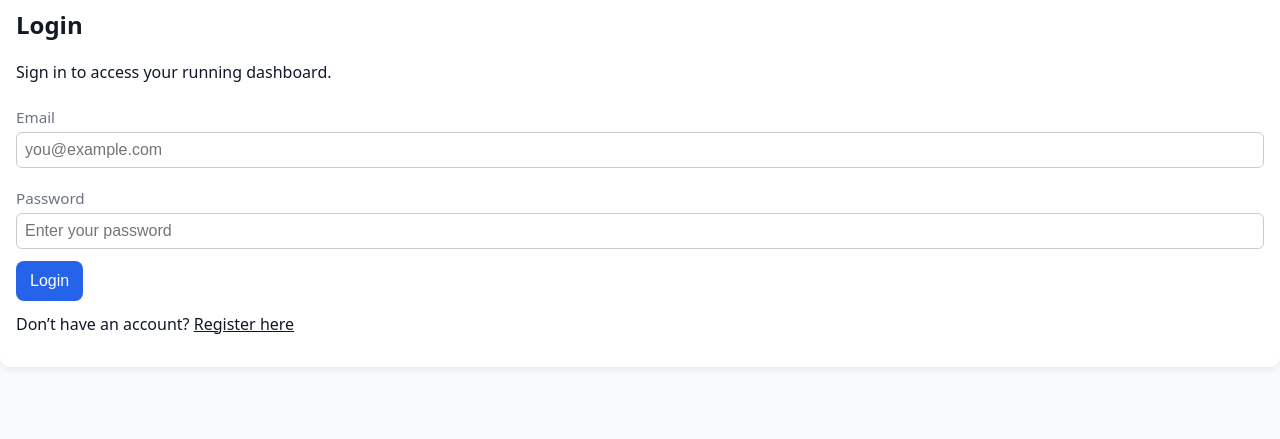
Scenario: LoginPage › shows error for empty fields
This screenshot has width=1280, height=439.
Click the button "Login": (50, 281) [16,261,83,301]
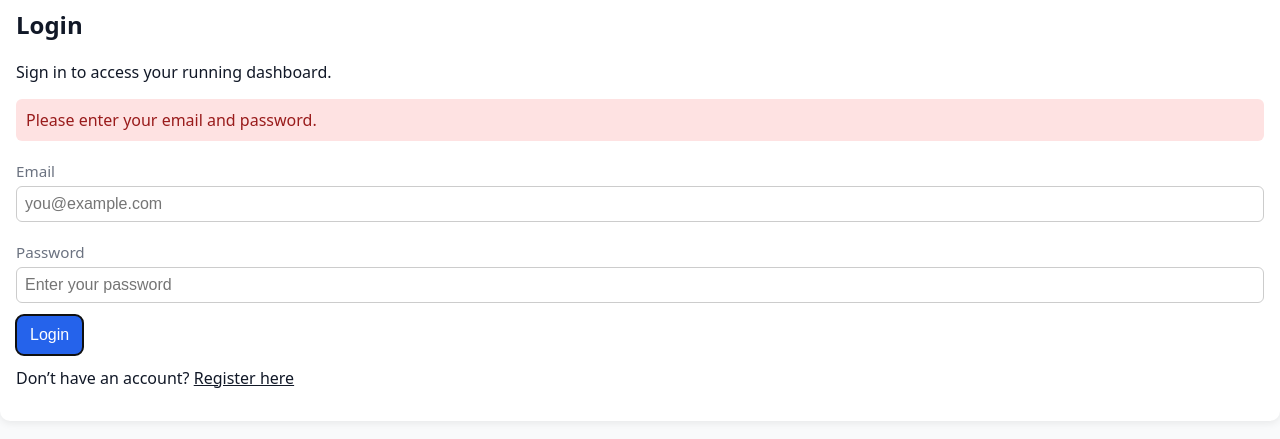
Check: the text "Please enter your email and password." is shown, box [16,99,1264,141]
